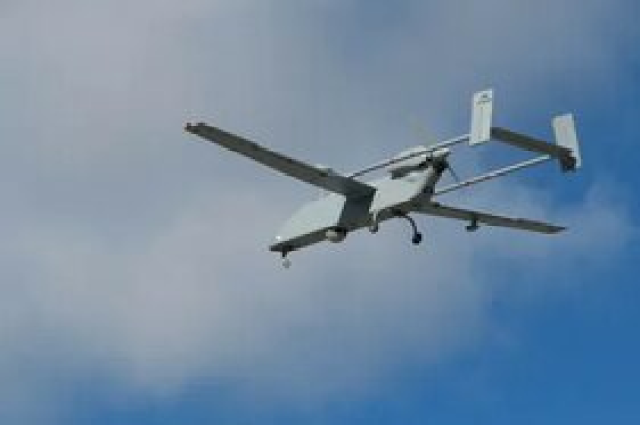military drone: (184, 88, 582, 258)
